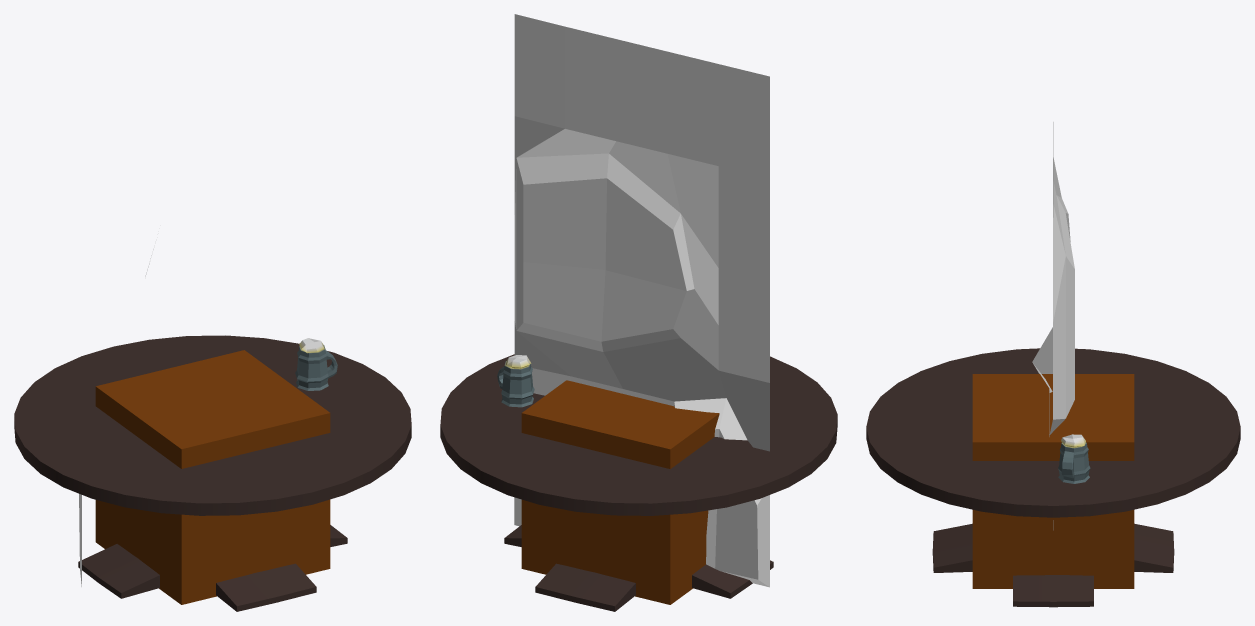
The model's file is assets.glb.
3 views of the same model, side by side, from view 1: azimuth 30°, elevation 25°; view 2: azimuth 150°, elevation 25°; view 3: azimuth 270°, elevation 25° (orthographic). The views are drawn at different scales.
Visible parts, largest first — view 1: Table, Cube, BeerTable; view 2: Wall, Table, Cube, BeerTable; view 3: Table, Cube, Wall, BeerTable.
Part boxes in pixels (x1=…): Table: x1=14, y1=335, x2=411, y2=611; Cube: x1=95, y1=350, x2=330, y2=604; BeerTable: x1=295, y1=338, x2=337, y2=390; Wall: x1=514, y1=14, x2=769, y2=587; Table: x1=440, y1=354, x2=837, y2=611; Cube: x1=521, y1=380, x2=719, y2=604; BeerTable: x1=497, y1=355, x2=534, y2=407; Table: x1=866, y1=348, x2=1240, y2=607; Cube: x1=972, y1=374, x2=1134, y2=588; Wall: x1=1032, y1=122, x2=1074, y2=530; BeerTable: x1=1058, y1=434, x2=1090, y2=483.
Bounding box in the file's own units: 1.41 × 2.01 × 1.41.
